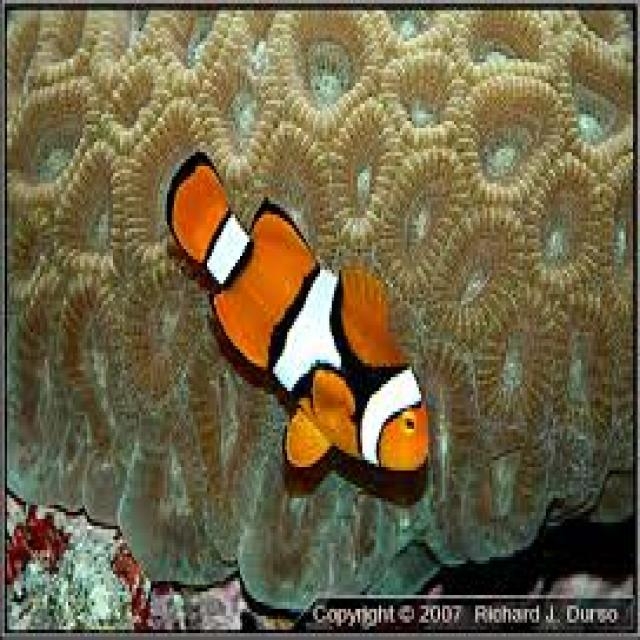Amphiprion-percula: (151, 151, 478, 563)
